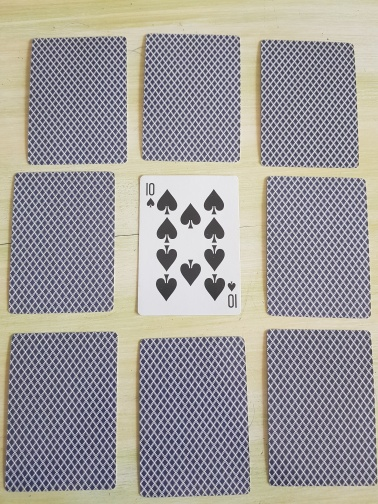ten: (135, 174, 243, 317)
